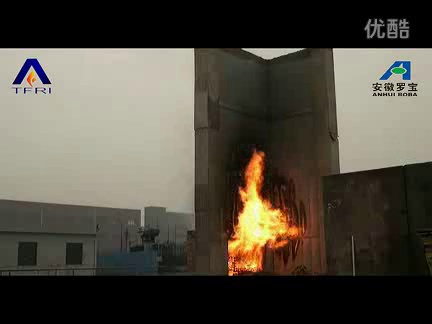fire: (222, 144, 301, 279)
